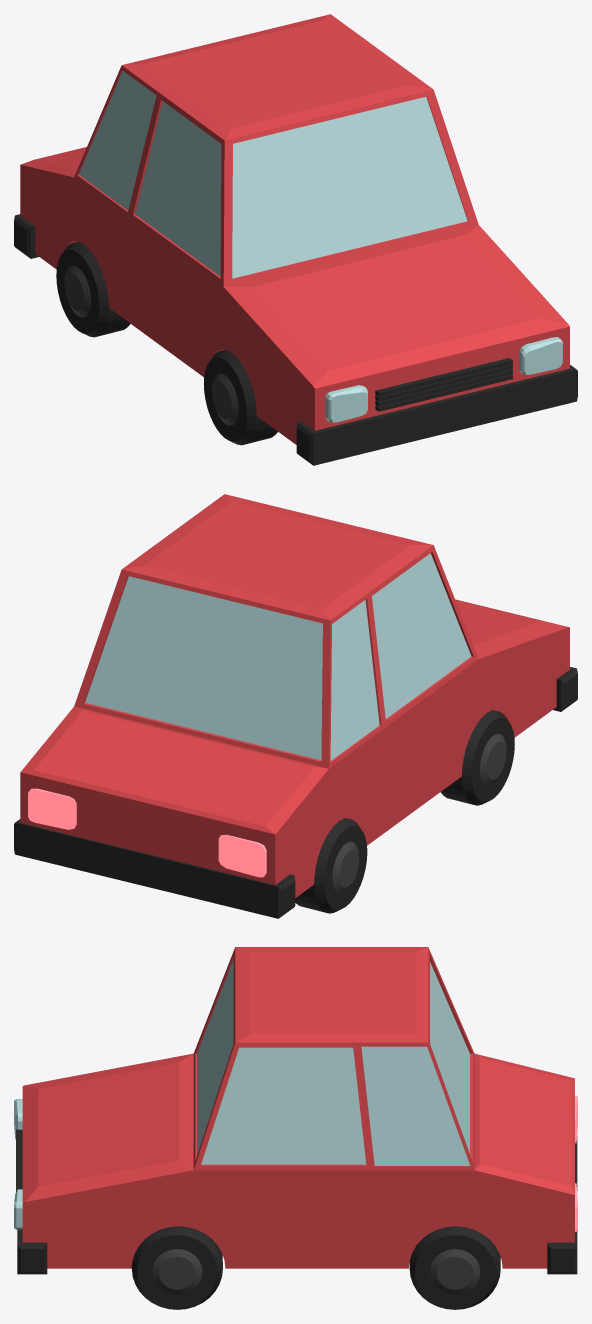
File: auto die anderen.fbx
3 views of the same model, one above another, from view 1: azimuth 30°, elevation 25°; view 2: azimuth 150°, elevation 25°; view 3: azimuth 270°, elevation 25° (orthographic). The views are drawn at different scales.
Parts seen in each view (by area): view 1: auto, frontscheibe, reifen vr, reifen hl; view 2: auto, reifen hl, reifen vr; view 3: auto, seitenfenster, reifen hl.001, reifen vl, frontscheibe.
Part boxes in pixels (box(x1,y1,x2,y2)): auto: box(14, 14, 577, 465); frontscheibe: box(232, 97, 467, 278); reifen vr: box(204, 349, 277, 445); reifen hl: box(56, 241, 130, 337); auto: box(14, 494, 577, 918); reifen hl: box(295, 818, 367, 913); reifen vr: box(440, 710, 514, 805); auto: box(14, 947, 577, 1274); seitenfenster: box(201, 1047, 366, 1164); reifen hl.001: box(409, 1226, 500, 1309); reifen vl: box(131, 1226, 222, 1309); frontscheibe: box(197, 960, 233, 1155).
Bounding box in the file's own units: 323 × 310 × 612.
